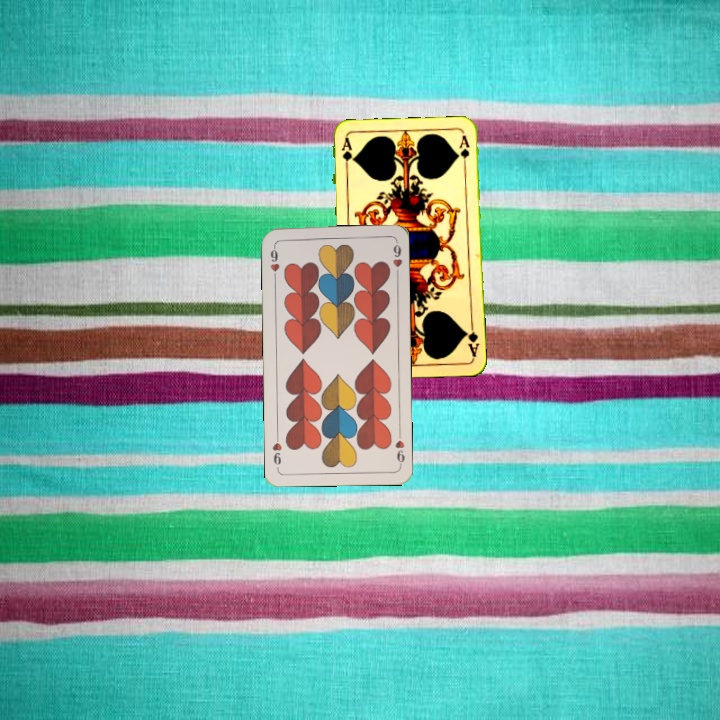GA: (461, 319, 481, 360), (337, 134, 355, 175)
H9: (391, 428, 407, 469), (266, 241, 282, 282)
